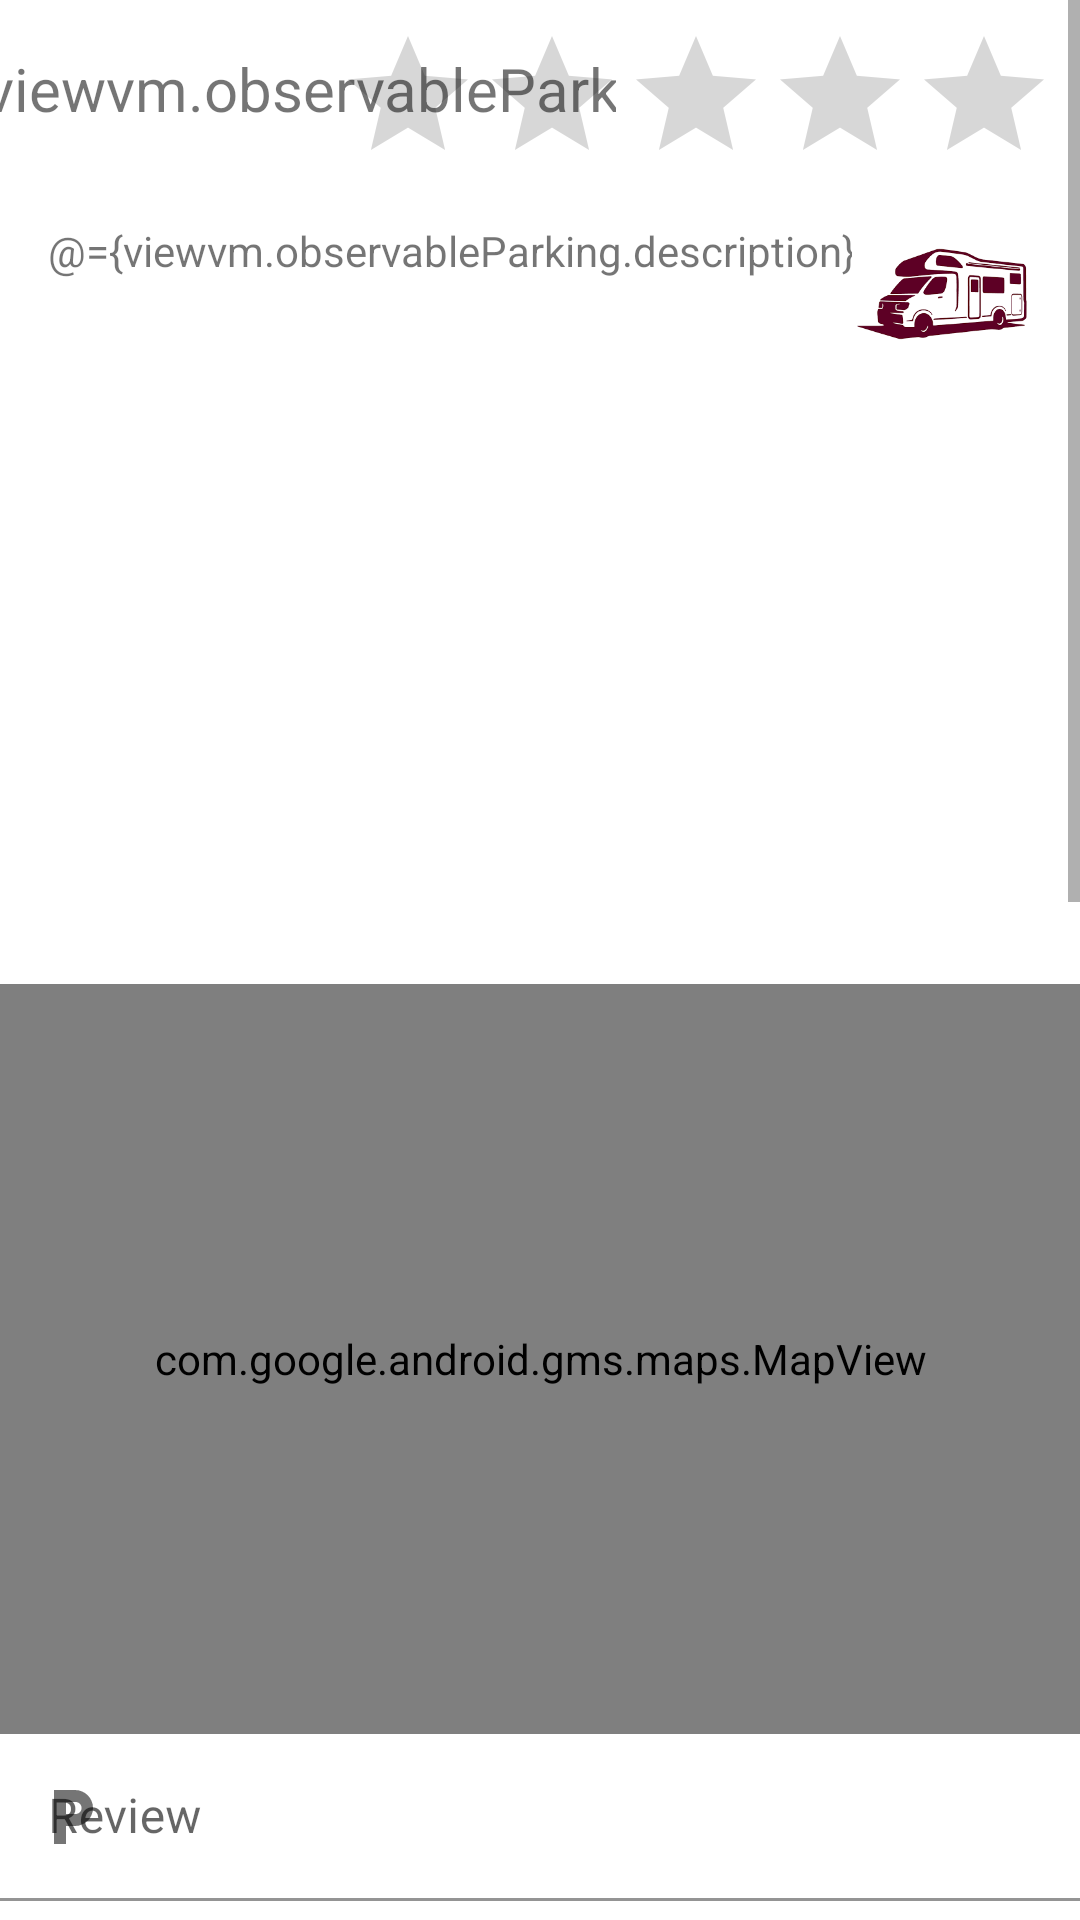

Screen size 1080 × 1920. Icon name, then its center in pixels as [x,y]:
camper: [942,294]
